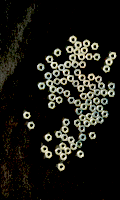nut: (70, 36, 78, 44), (75, 41, 83, 49), (92, 43, 100, 51), (81, 47, 89, 55), (79, 61, 87, 69), (58, 64, 66, 72), (74, 69, 82, 77), (63, 69, 71, 77), (45, 72, 53, 80), (78, 85, 86, 93), (28, 122, 36, 130), (76, 108, 84, 116), (97, 105, 105, 113), (84, 120, 92, 128), (63, 119, 71, 127), (80, 134, 88, 142), (45, 134, 53, 142), (41, 146, 49, 154), (45, 151, 53, 159), (58, 164, 66, 172), (84, 40, 91, 48), (67, 46, 74, 54), (74, 48, 81, 56), (55, 49, 62, 57), (46, 56, 54, 63), (94, 53, 101, 61), (110, 52, 117, 60), (106, 59, 114, 66), (86, 54, 94, 61), (79, 53, 86, 61), (70, 54, 77, 62), (38, 64, 45, 72), (72, 61, 79, 69), (65, 61, 72, 69), (51, 62, 59, 69), (53, 70, 60, 78), (109, 90, 116, 98), (96, 76, 103, 84), (88, 74, 96, 81), (79, 75, 87, 82), (68, 75, 75, 83), (61, 78, 68, 86), (54, 78, 61, 86), (47, 80, 54, 88), (38, 83, 46, 90), (84, 80, 91, 88), (73, 80, 80, 88), (89, 84, 97, 91), (102, 89, 109, 97), (95, 89, 102, 97), (64, 90, 71, 98), (57, 87, 64, 95), (50, 86, 57, 94), (102, 98, 109, 106), (94, 97, 101, 105), (49, 94, 57, 101), (49, 102, 56, 110), (68, 97, 76, 104), (81, 103, 88, 111), (102, 111, 110, 118), (93, 112, 101, 119), (97, 117, 105, 124), (87, 113, 94, 121), (62, 126, 69, 134), (90, 132, 97, 140), (76, 141, 83, 149), (56, 131, 63, 139), (68, 137, 76, 144), (78, 151, 85, 159), (56, 148, 63, 156), (60, 154, 68, 161), (104, 66, 111, 73), (109, 83, 116, 90), (99, 83, 106, 90), (88, 92, 95, 99), (81, 93, 88, 100), (86, 99, 93, 106), (56, 97, 63, 104), (24, 112, 31, 119), (75, 100, 82, 107), (90, 105, 97, 112), (80, 115, 87, 122), (91, 119, 98, 126), (75, 120, 82, 127), (79, 126, 86, 133), (62, 135, 69, 142), (71, 144, 78, 151), (60, 143, 67, 150), (65, 148, 72, 155)
